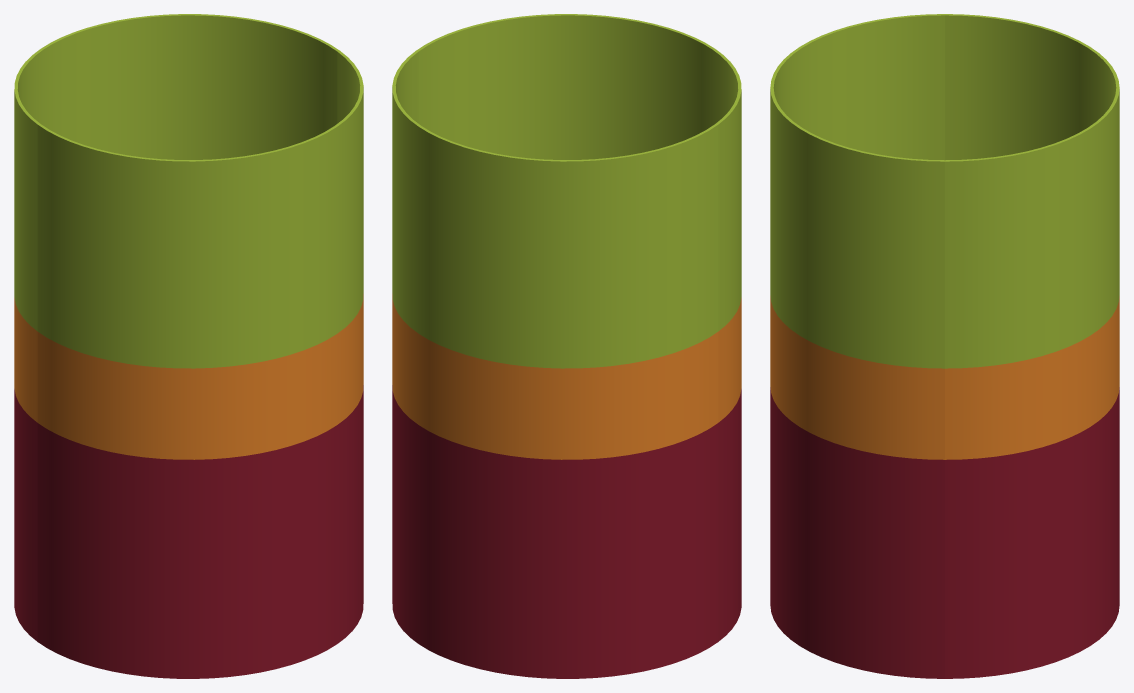
The model's file is gas_fired_furnace_temperature.glb.
3 renders of one model, left to right at view 1: azimuth 30°, elevation 25°; view 2: azimuth 150°, elevation 25°; view 3: azimuth 270°, elevation 25°, orthographic.
Visible parts, largest first — view 1: temperature__front, temperature__back; view 2: temperature__back, temperature__front; view 3: temperature__back, temperature__front.
Boxes of the visible parts, bbox=[...] form: temperature__front: bbox=[37, 51, 363, 678]; temperature__back: bbox=[14, 14, 339, 641]; temperature__back: bbox=[392, 51, 718, 678]; temperature__front: bbox=[416, 14, 741, 641]; temperature__back: bbox=[945, 14, 1119, 678]; temperature__front: bbox=[770, 14, 944, 678].
Size of the model in its own units: 2.6 by 4.25 by 2.6.
